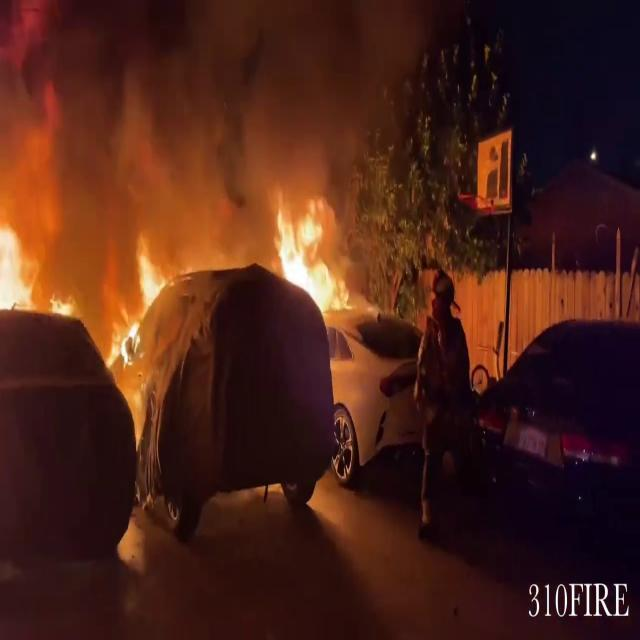Fire: (270, 193, 352, 320), (108, 230, 168, 376), (0, 204, 47, 324)
Smoke: (1, 1, 435, 222)
